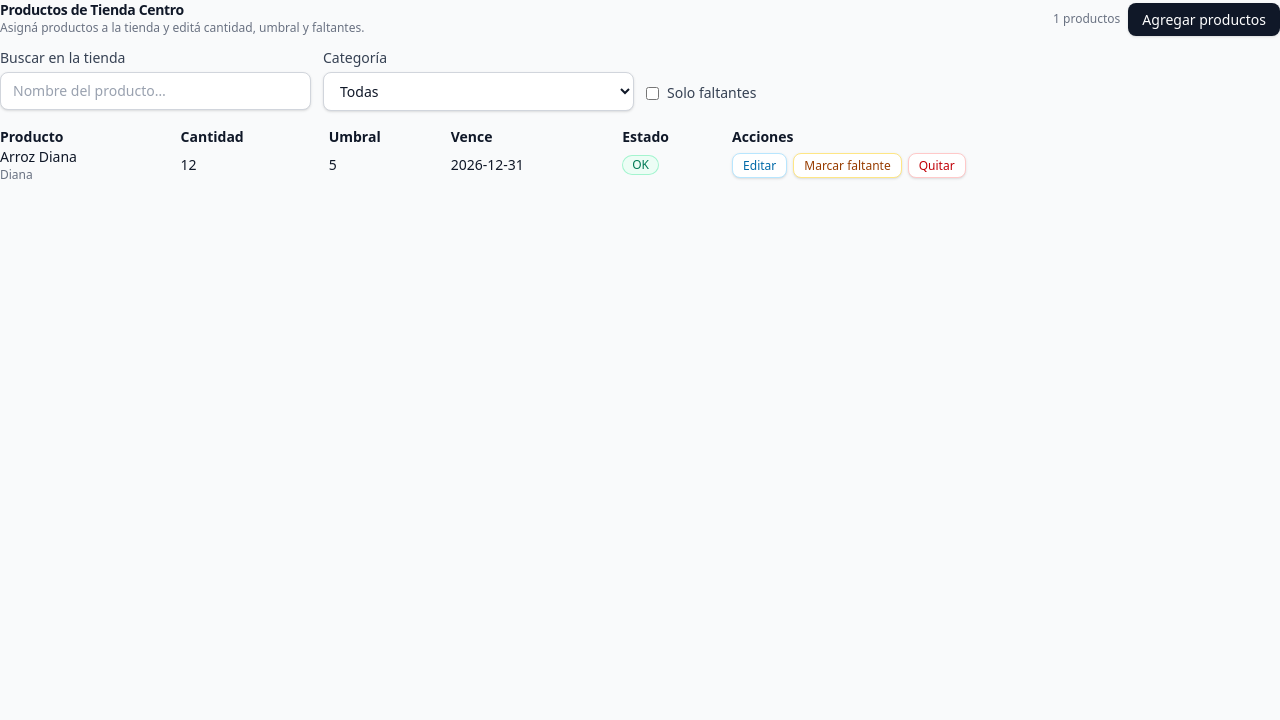
Test case: StoreCatalogPanel · catálogo y asignación de la tienda › edita cantidad y umbral en un modal y guarda con UNA sola RPC
The image size is (1280, 720).
Click the button "Editar". click: click(760, 165)
box: [732,152,787,178]
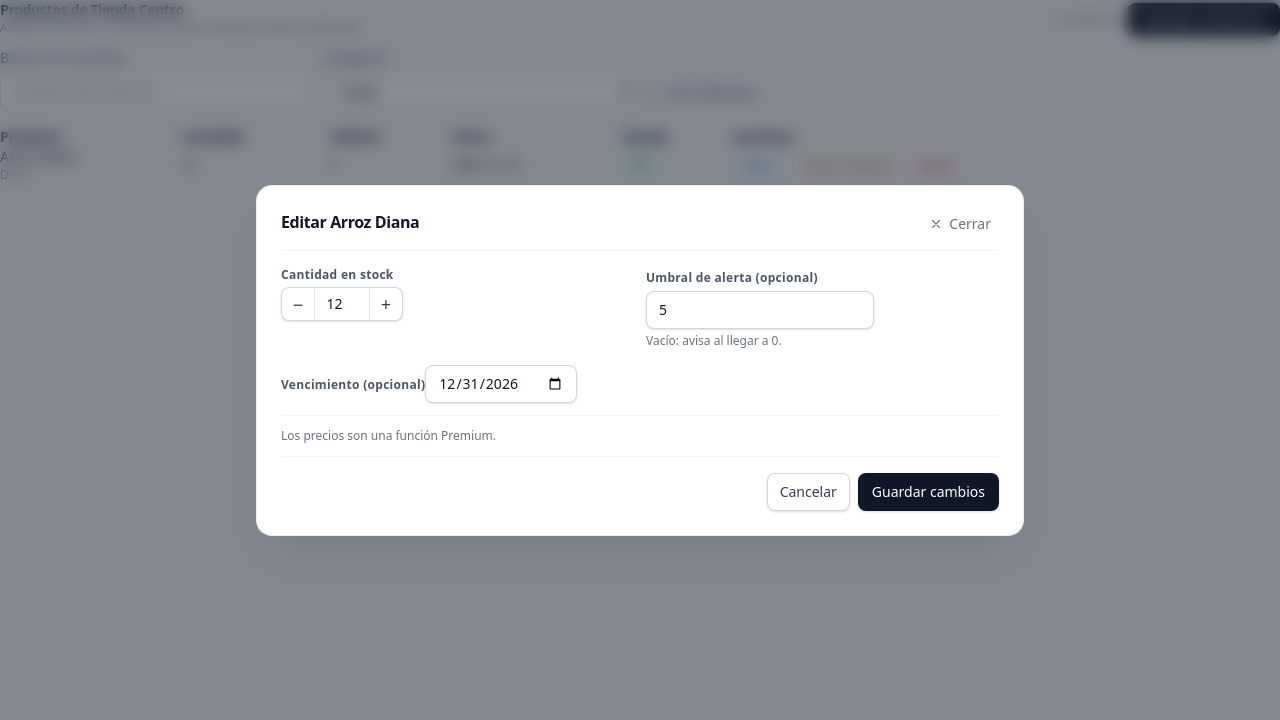
Click the button named "Sumar cantidad de Arroz Diana". click: click(386, 304)
box: [370,288,402,320]
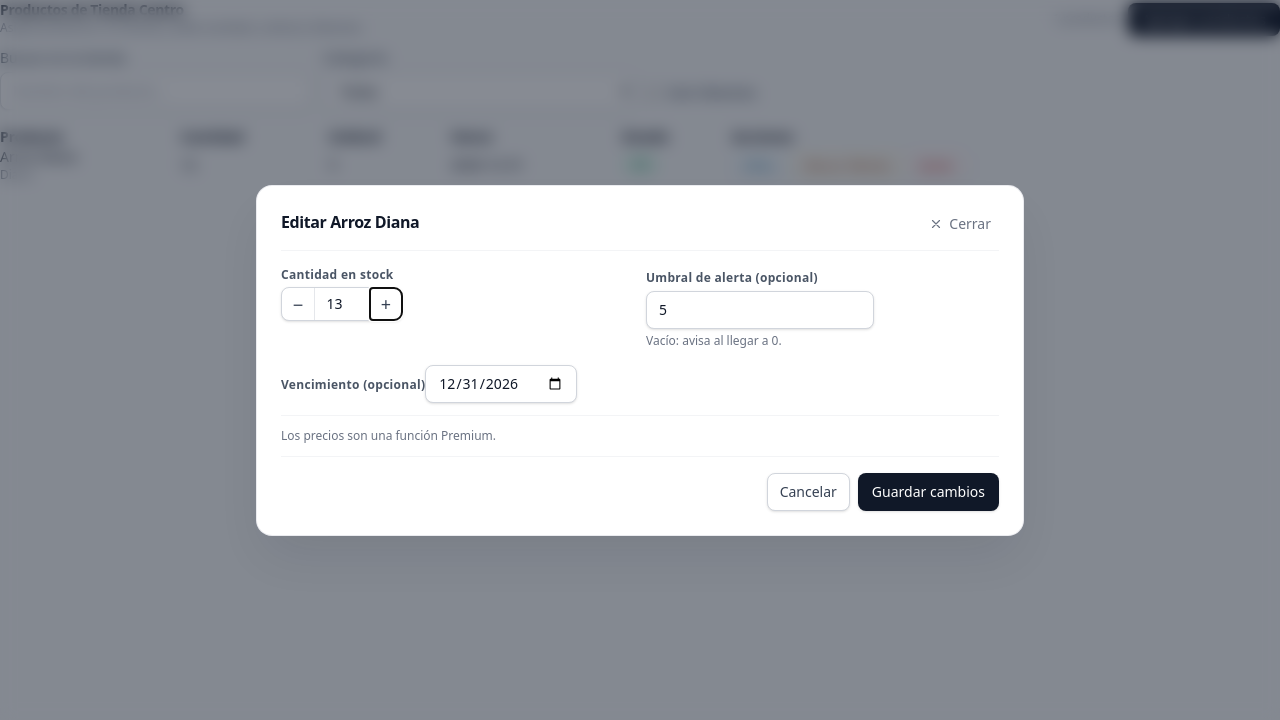
Expected: the text "Vacío: avisa al llegar a 0." is shown, [646,332,782,348]
Replace the text in the number field labelled "Umbral de alerta (opcional)" with "8". click: (760, 310)
box: [646,290,874,328]
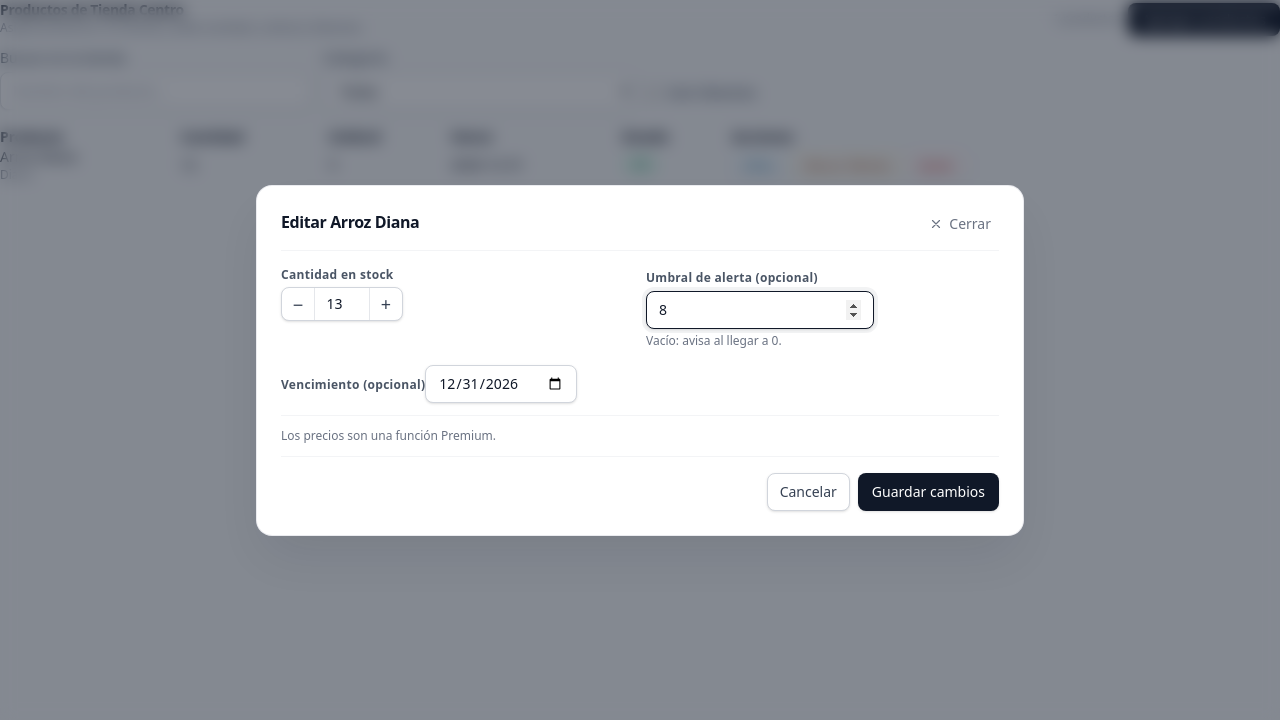
Click the button "Guardar cambios". click: click(928, 492)
box: [858,472,999,510]
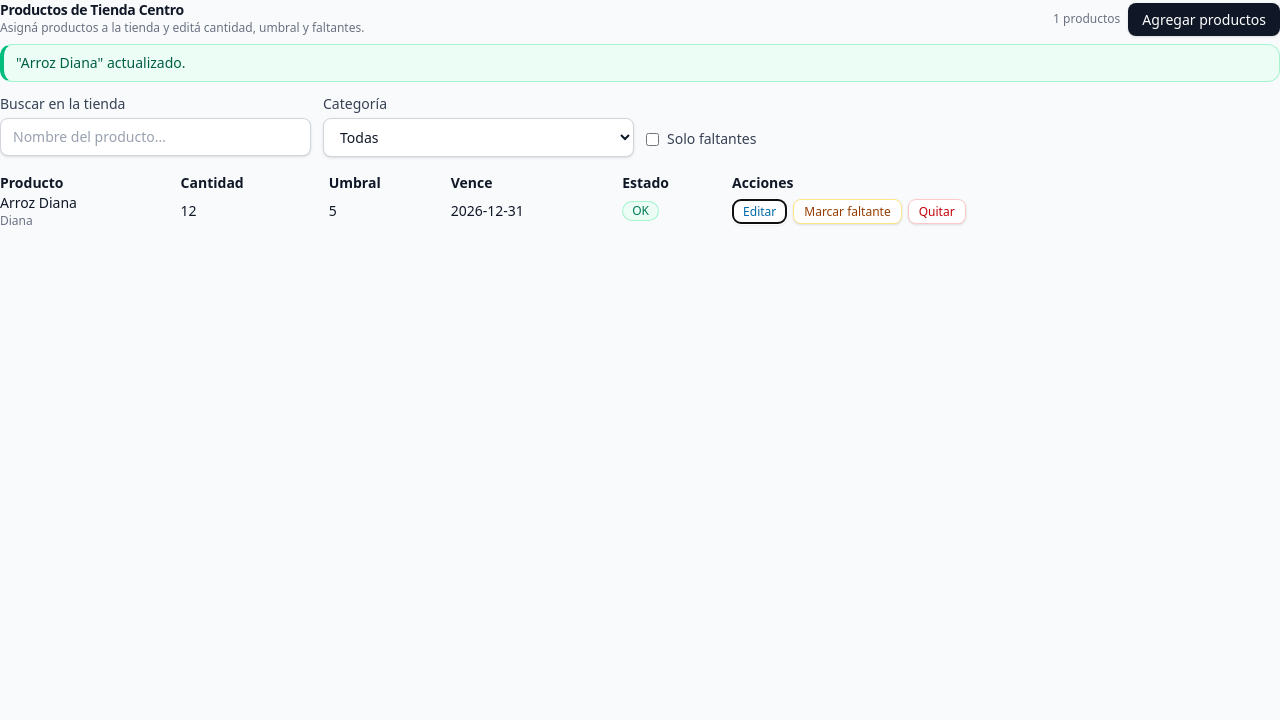
Expected: the text "\"Arroz Diana\" actualizado." is shown, [0,44,1279,82]
